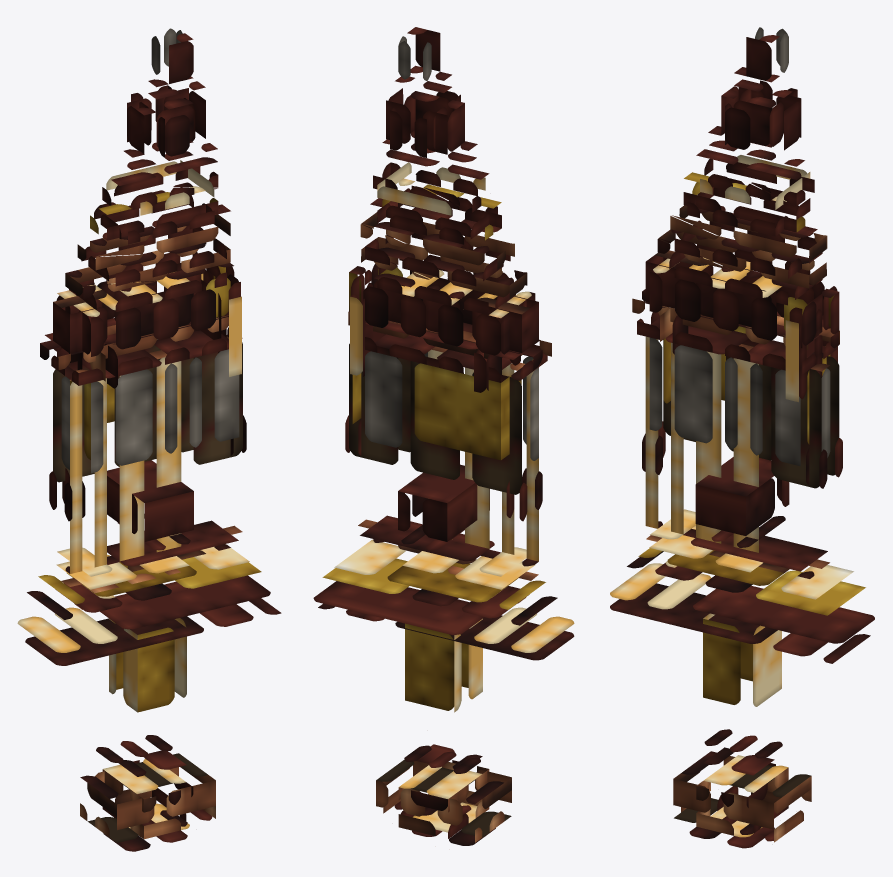
Rendered from wyrm_tooth.obj.
The picture shows the model from 3 angles, left to right: view 1: azimuth 30°, elevation 25°; view 2: azimuth 150°, elevation 25°; view 3: azimuth 330°, elevation 25°; orthographic projection.
Parts seen in each view (by area): view 1: lit; view 2: lit; view 3: lit.
Part boxes in pixels (box(x1,y1,x2,y2)): lit: box(17, 28, 281, 851); lit: box(313, 27, 574, 845); lit: box(610, 27, 874, 848).
Bounding box in the file's own units: 0.5625 × 1.97 × 0.2.
